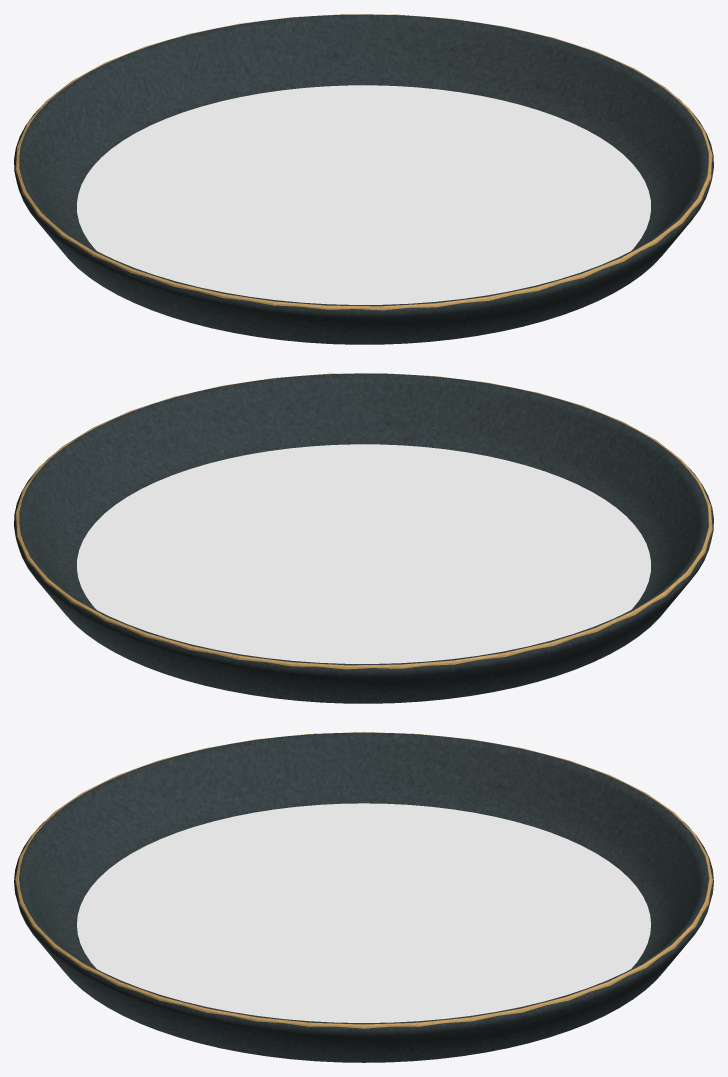
File: preview.glb
3 views of the same model, one above another, from view 1: azimuth 30°, elevation 25°; view 2: azimuth 150°, elevation 25°; view 3: azimuth 270°, elevation 25° (orthographic).
Visible parts, largest first — view 1: ServiceTray; view 2: ServiceTray; view 3: ServiceTray.
Boxes of the visible parts, x1=… form: ServiceTray: x1=14, y1=14, x2=713, y2=344; ServiceTray: x1=14, y1=373, x2=713, y2=703; ServiceTray: x1=14, y1=732, x2=713, y2=1062.
Size of the model in its own units: 0.334 by 0.032 by 0.334.
Materials: 3 (2 with a texture image).
